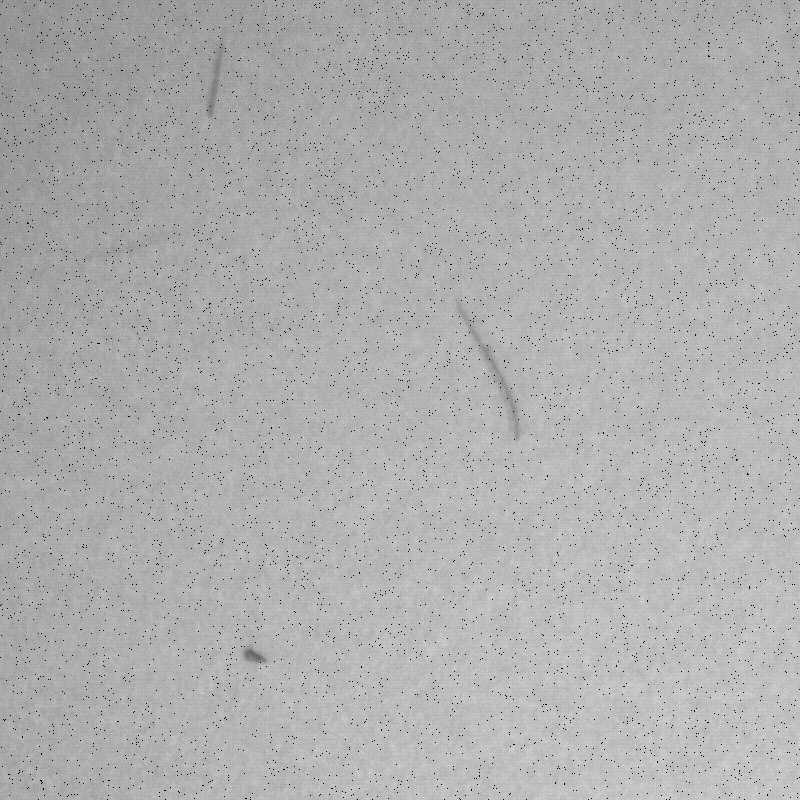defect: (446, 291, 531, 443), (204, 29, 226, 124), (235, 639, 267, 668)
